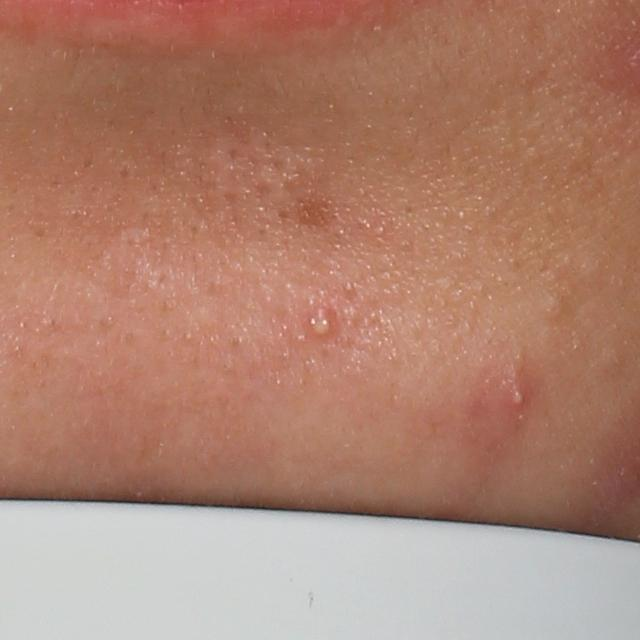pustule: (306, 306, 340, 340), (507, 383, 533, 412)
